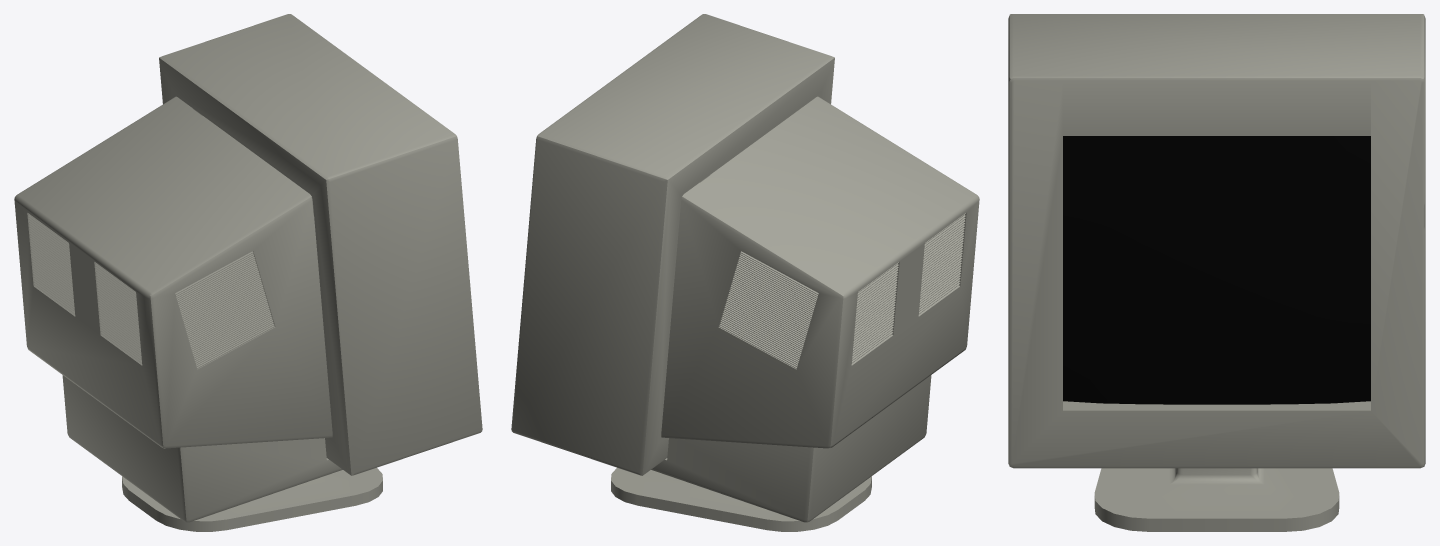
File: crt_monitor_.fbx.glb
3 views of the same model, side by side, from view 1: azimuth 30°, elevation 25°; view 2: azimuth 150°, elevation 25°; view 3: azimuth 270°, elevation 25° (orthographic). The views are drawn at different scales.
Visible parts, largest first — view 1: Cubo; view 2: Cubo; view 3: Cubo.
Part boxes in pixels (<box>): Cubo: <box>14,14,482,531</box>; Cubo: <box>511,14,979,531</box>; Cubo: <box>1008,14,1425,531</box>.
Bounding box in the file's own units: 0.0218 × 0.0249 × 0.02.
Materials: 1 (1 with a texture image).
